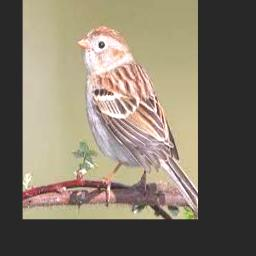Sparrow: (77, 25, 198, 215)
